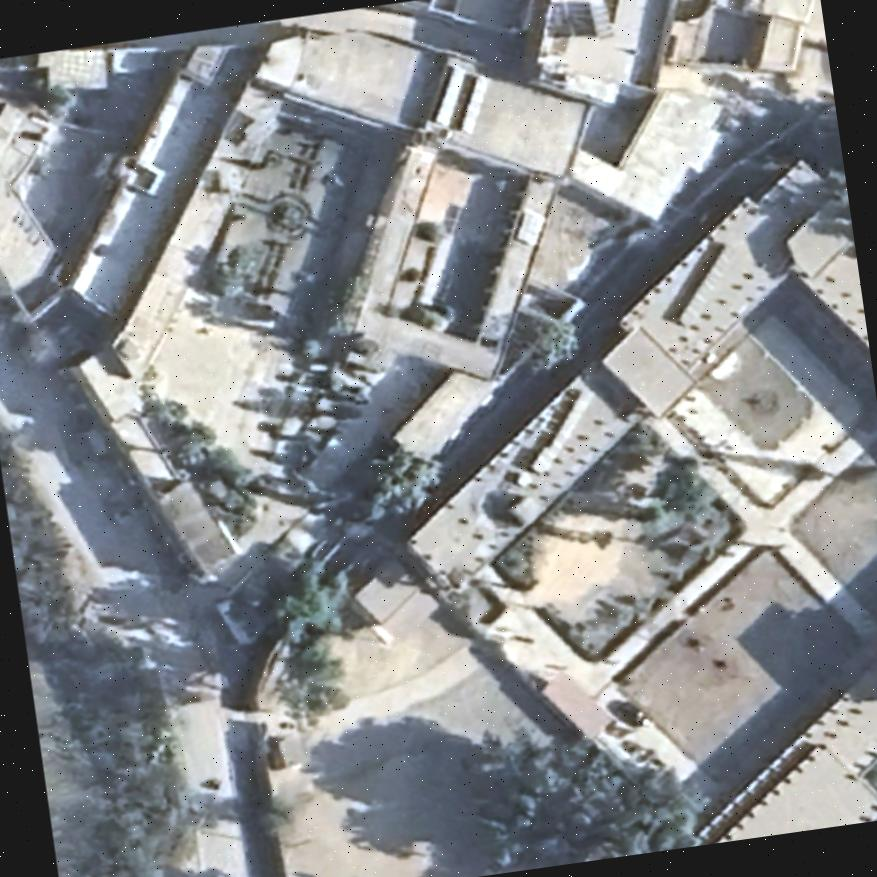Solarpanel: (433, 64, 468, 129), (456, 72, 490, 137), (588, 0, 620, 42), (513, 206, 545, 247)
